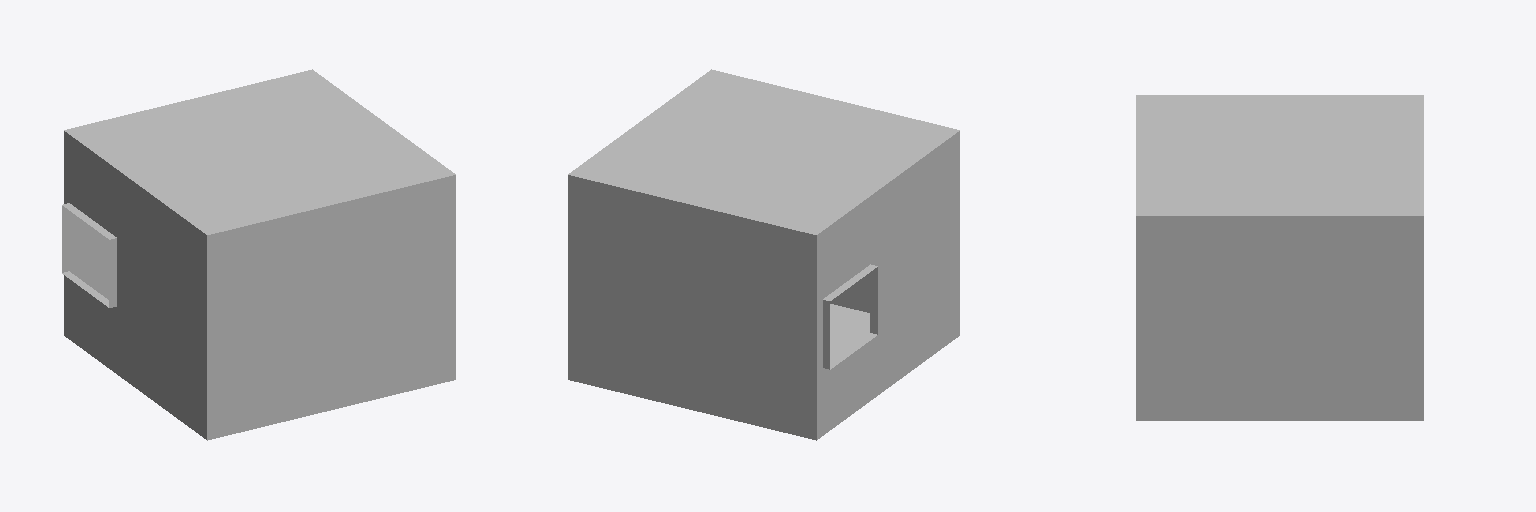
The model's file is BackWall.obj.
The picture shows the model from 3 angles: view 1: azimuth 30°, elevation 25°; view 2: azimuth 150°, elevation 25°; view 3: azimuth 270°, elevation 25°; orthographic projection.
Visible parts, largest first — view 1: BackWall_Cube; view 2: BackWall_Cube; view 3: BackWall_Cube.
Boxes of the visible parts, <box> form: BackWall_Cube: <box>62,69,455,440</box>; BackWall_Cube: <box>568,69,959,440</box>; BackWall_Cube: <box>1136,95,1423,420</box>.
Size of the model in its own units: 13.42 by 10.24 by 13.01.